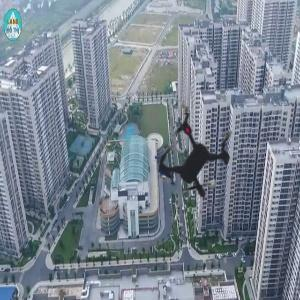drone: (113, 76, 285, 248)
